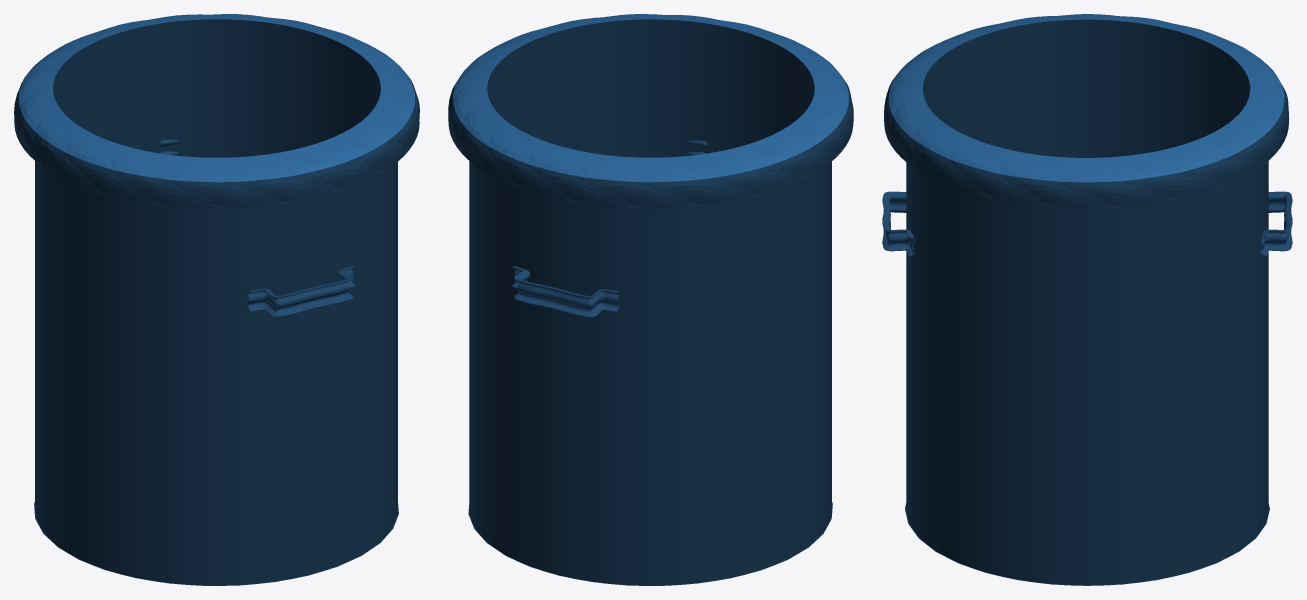
Rendered from LixeiraPia1.obj.
The picture shows the model from 3 angles, left to right: view 1: azimuth 30°, elevation 25°; view 2: azimuth 150°, elevation 25°; view 3: azimuth 270°, elevation 25°; orthographic projection.
Visible parts, largest first — view 1: Mesh.001_Circle, Mesh_Mesh.002_Mesh_Mesh_bi, Mesh.002_Mesh.001_Mesh_Mesh_Me; view 2: Mesh.001_Circle, Mesh_Mesh.002_Mesh_Mesh_bi, Mesh.002_Mesh.001_Mesh_Mesh_Me; view 3: Mesh.001_Circle, Mesh_Mesh.002_Mesh_Mesh_bi, Mesh.002_Mesh.001_Mesh_Mesh_Me.
Boxes of the visible parts, bbox=[...] form: Mesh.001_Circle: bbox=[35, 19, 397, 585]; Mesh_Mesh.002_Mesh_Mesh_bi: bbox=[14, 14, 419, 208]; Mesh.002_Mesh.001_Mesh_Mesh_Me: bbox=[159, 139, 355, 316]; Mesh.001_Circle: bbox=[469, 19, 831, 585]; Mesh_Mesh.002_Mesh_Mesh_bi: bbox=[448, 14, 853, 208]; Mesh.002_Mesh.001_Mesh_Mesh_Me: bbox=[512, 140, 707, 317]; Mesh.001_Circle: bbox=[906, 19, 1268, 585]; Mesh_Mesh.002_Mesh_Mesh_bi: bbox=[884, 14, 1289, 208]; Mesh.002_Mesh.001_Mesh_Mesh_Me: bbox=[882, 191, 1292, 256].
Size of the model in its own units: 1.14 by 1.31 by 1.16.
